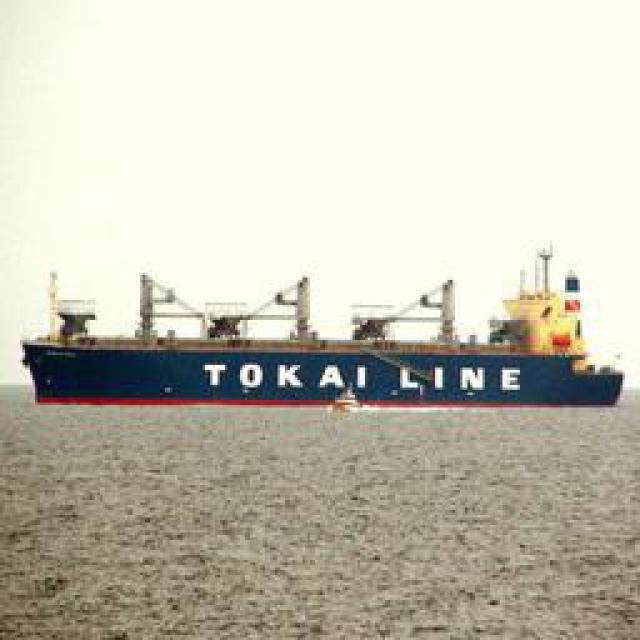Ship: (21, 248, 626, 413)
